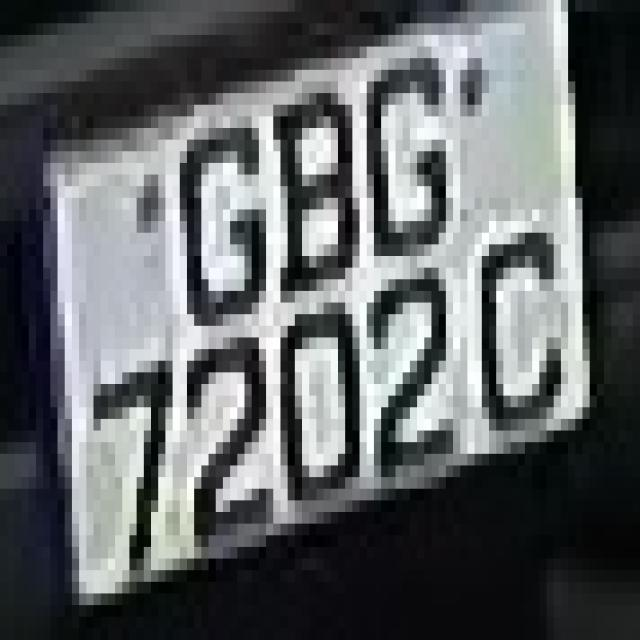0: (288, 291, 367, 570)
2: (367, 256, 460, 524), (180, 338, 280, 570)
7: (72, 360, 194, 616)
B: (237, 93, 367, 326)
C: (453, 210, 597, 477)
G: (158, 93, 273, 338), (360, 35, 468, 233)
